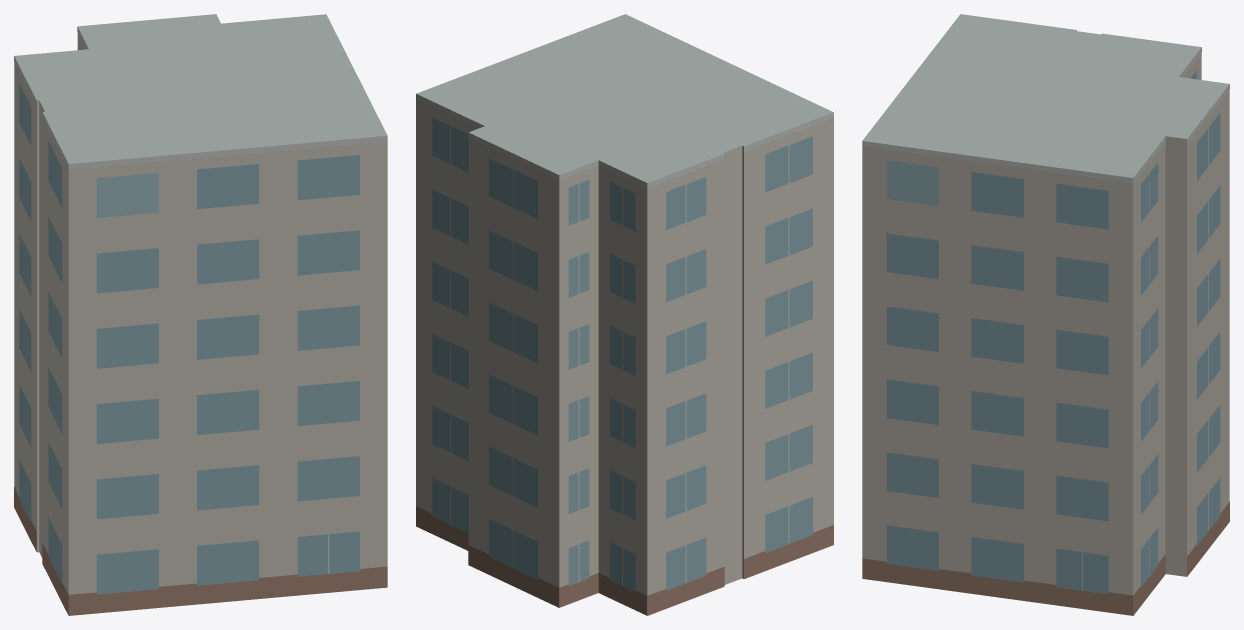
File: survey-upis-32527854.glb
3 views of the same model, side by side, from view 1: azimuth 30°, elevation 25°; view 2: azimuth 150°, elevation 25°; view 3: azimuth 270°, elevation 25° (orthographic). The views are drawn at different scales.
Parts seen in each view (by area): view 1: survey-upis-32527854.tmp; view 2: survey-upis-32527854.tmp; view 3: survey-upis-32527854.tmp.
Part boxes in pixels (box(x1,y1,x2,y2)): survey-upis-32527854.tmp: box(14, 14, 387, 615); survey-upis-32527854.tmp: box(416, 14, 833, 615); survey-upis-32527854.tmp: box(862, 14, 1229, 615).
Bounding box in the file's own units: 15.6 × 19.4 × 14.77.
